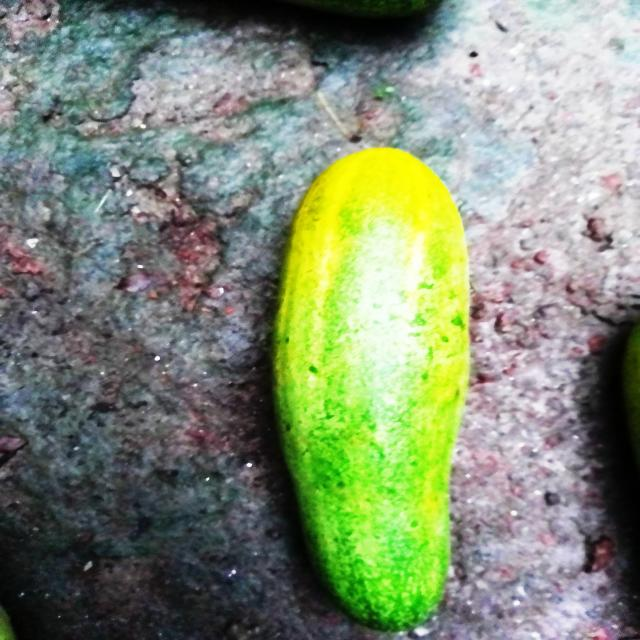Fresh-Cucumber: (270, 143, 472, 633)
